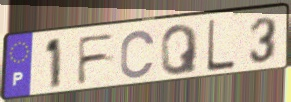1: (44, 37, 64, 91)
3: (247, 15, 280, 66)
C: (118, 28, 157, 81)
F: (76, 31, 118, 87)
L: (205, 18, 237, 75)
Q: (159, 22, 200, 77)
